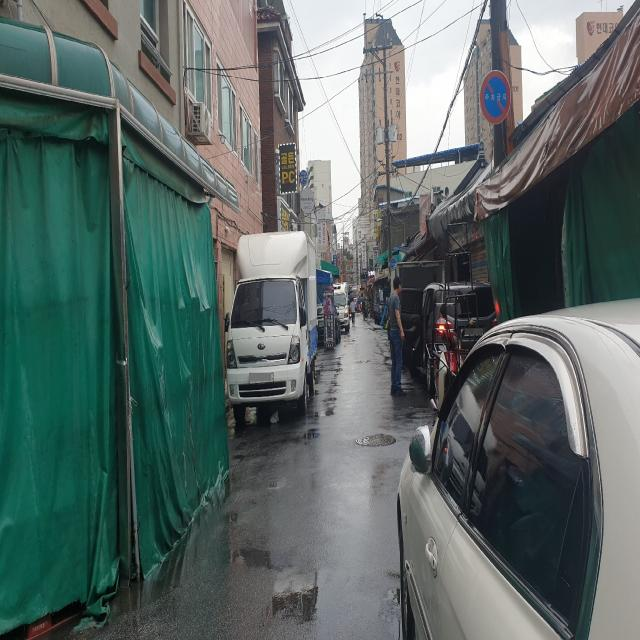car: (397, 297, 640, 639), (224, 231, 317, 421)
motorbike: (431, 304, 464, 414)
